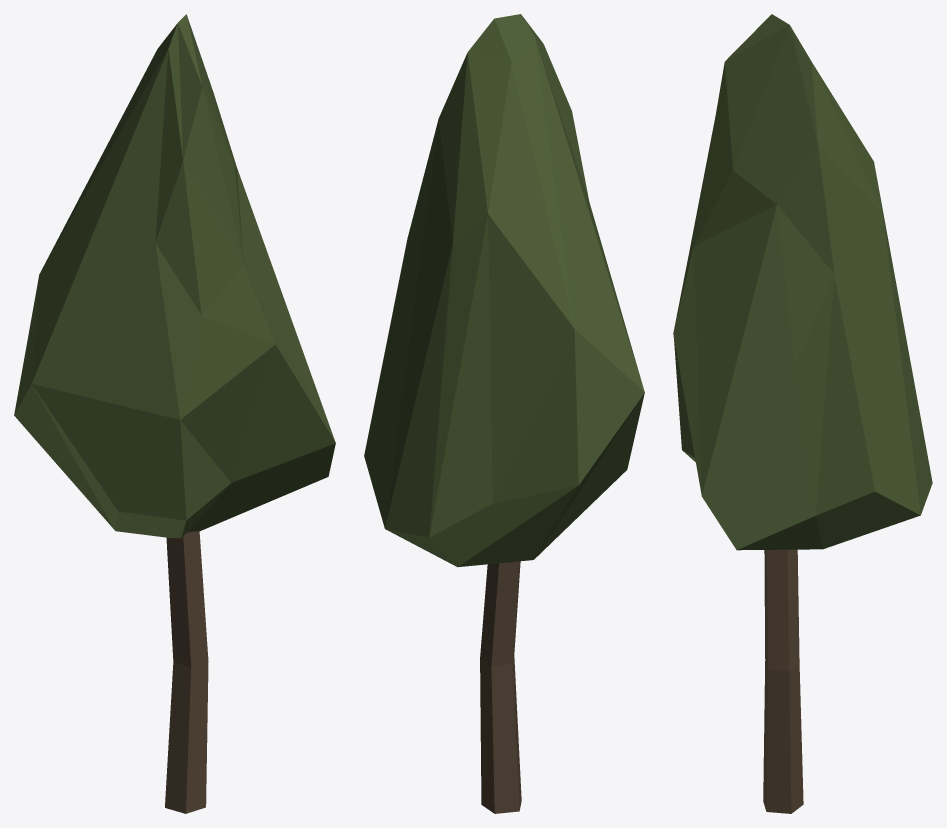
The model's file is Tree_081.fbx.
3 views of the same model, side by side, from view 1: azimuth 30°, elevation 25°; view 2: azimuth 150°, elevation 25°; view 3: azimuth 270°, elevation 25° (orthographic).
Parts seen in each view (by area): view 1: Tree_081; view 2: Tree_081; view 3: Tree_081.
Part boxes in pixels (left/top/right/bottom): Tree_081: left=14, top=14, right=335, bottom=813; Tree_081: left=364, top=14, right=644, bottom=813; Tree_081: left=673, top=14, right=932, bottom=813.
Bounding box in the file's own units: 0.6053 × 1.7 × 0.5097.
1 material, 1 textured.
